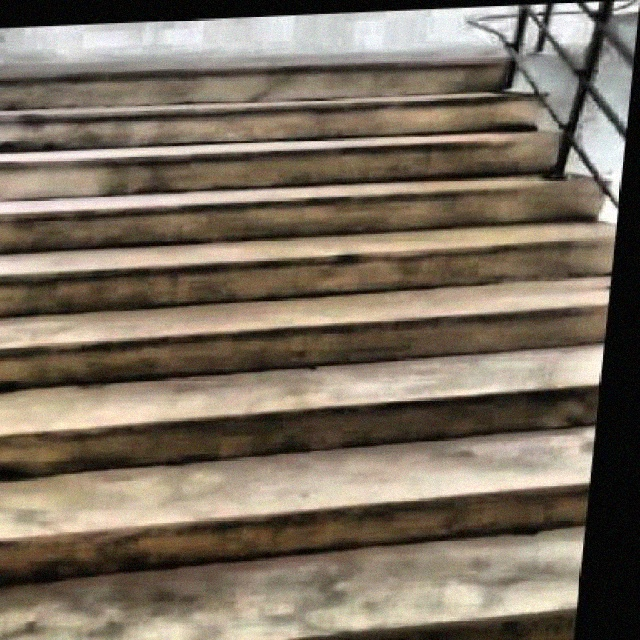stair: (1, 38, 637, 638)
